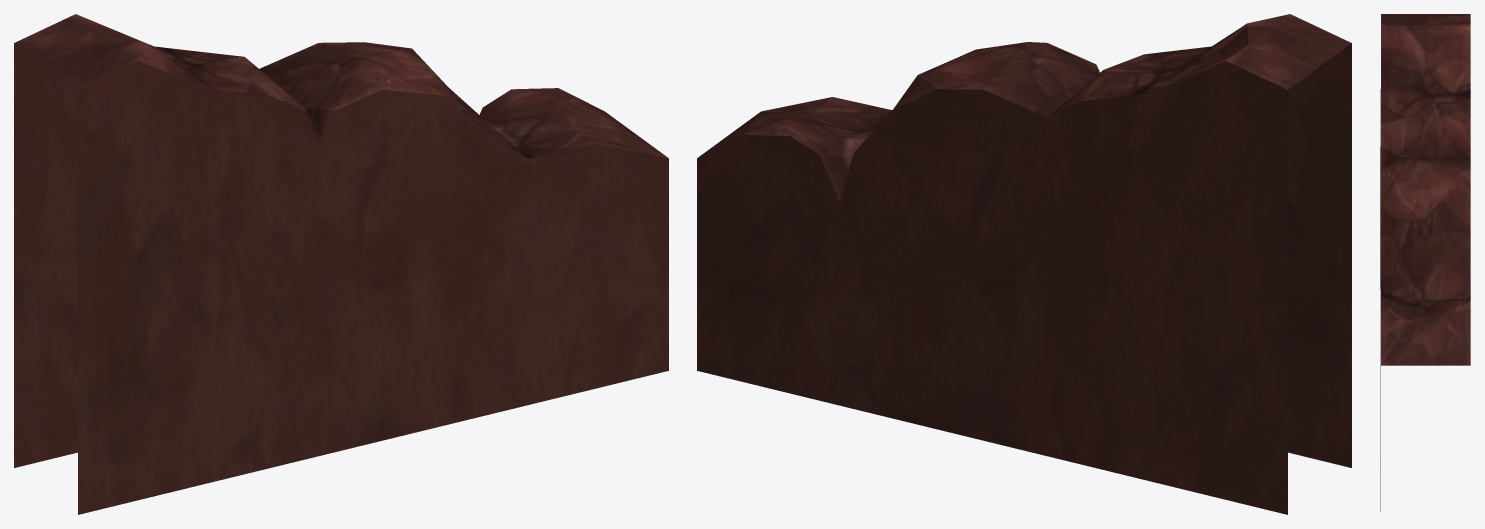
The model's file is lava_broken_straight_04.fbx.
3 views of the same model, side by side, from view 1: azimuth 30°, elevation 25°; view 2: azimuth 150°, elevation 25°; view 3: azimuth 270°, elevation 25° (orthographic). The views are drawn at different scales.
Parts seen in each view (by area): view 1: obj1.058; view 2: obj1.058; view 3: obj1.058.
Part boxes in pixels (x1,y1,x2,y2): obj1.058: (14,14,668,514); obj1.058: (697,14,1351,514); obj1.058: (1380,14,1470,511).
Bounding box in the file's own units: 4 × 2.84 × 0.7542.
